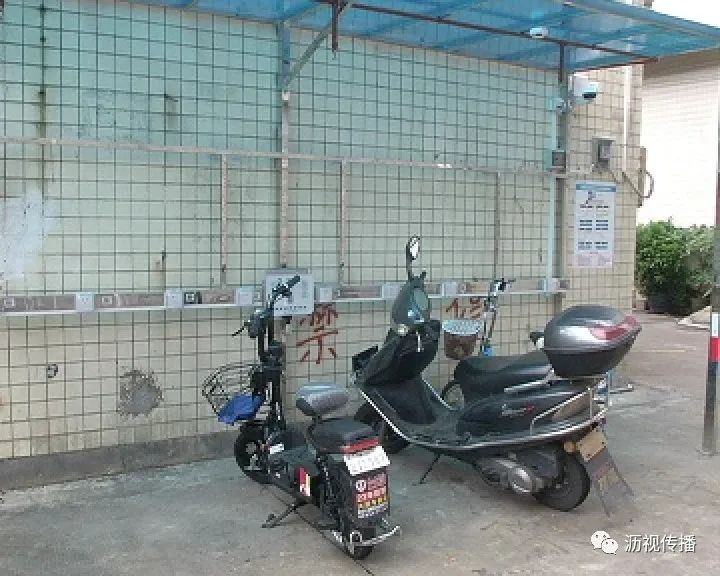non-vehicle: (357, 239, 646, 517), (225, 277, 395, 561)
